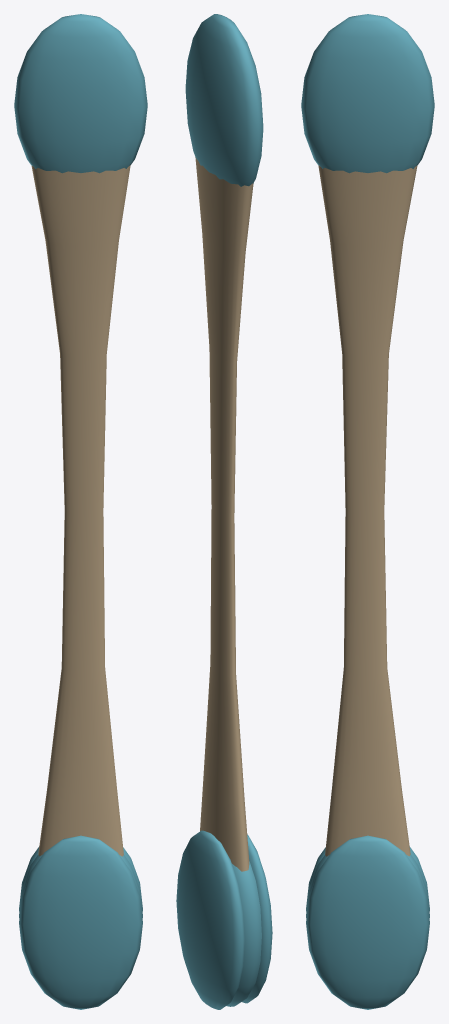
The model's file is left_fibula.glb.
3 renders of one model, left to right at view 1: azimuth 90°, elevation 25°; view 2: azimuth 210°, elevation 25°; view 3: azimuth 270°, elevation 25°, orthographic.
Visible parts, largest first — view 1: left_fibula:diaphysis, left_fibula:proximal-envelope, left_fibula:condyle--1, left_fibula:distal-envelope, left_fibula:condyle-1; view 2: left_fibula:diaphysis, left_fibula:proximal-envelope, left_fibula:condyle-1, left_fibula:distal-envelope, left_fibula:condyle--1; view 3: left_fibula:diaphysis, left_fibula:proximal-envelope, left_fibula:condyle-1, left_fibula:distal-envelope, left_fibula:condyle--1.
Boxes of the visible parts, x1=… form: left_fibula:diaphysis: x1=31, y1=165, x2=130, y2=856; left_fibula:proximal-envelope: x1=14, y1=14, x2=147, y2=173; left_fibula:condyle--1: x1=19, y1=835, x2=142, y2=1009; left_fibula:distal-envelope: x1=19, y1=855, x2=142, y2=917; left_fibula:condyle-1: x1=19, y1=846, x2=142, y2=911; left_fibula:diaphysis: x1=195, y1=157, x2=253, y2=871; left_fibula:proximal-envelope: x1=185, y1=14, x2=263, y2=186; left_fibula:condyle-1: x1=176, y1=830, x2=244, y2=1009; left_fibula:distal-envelope: x1=226, y1=861, x2=261, y2=1006; left_fibula:condyle--1: x1=242, y1=834, x2=272, y2=1003; left_fibula:diaphysis: x1=318, y1=165, x2=417, y2=856; left_fibula:proximal-envelope: x1=301, y1=14, x2=434, y2=173; left_fibula:condyle-1: x1=306, y1=835, x2=429, y2=1009; left_fibula:distal-envelope: x1=306, y1=855, x2=429, y2=917; left_fibula:condyle--1: x1=306, y1=846, x2=429, y2=911.
Bounding box in the file's own units: 0.0516 × 0.8428 × 0.1032.
